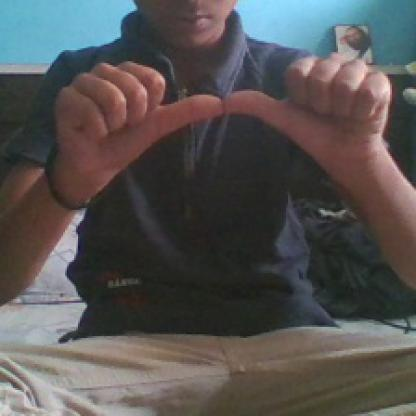A: (48, 38, 395, 191)
